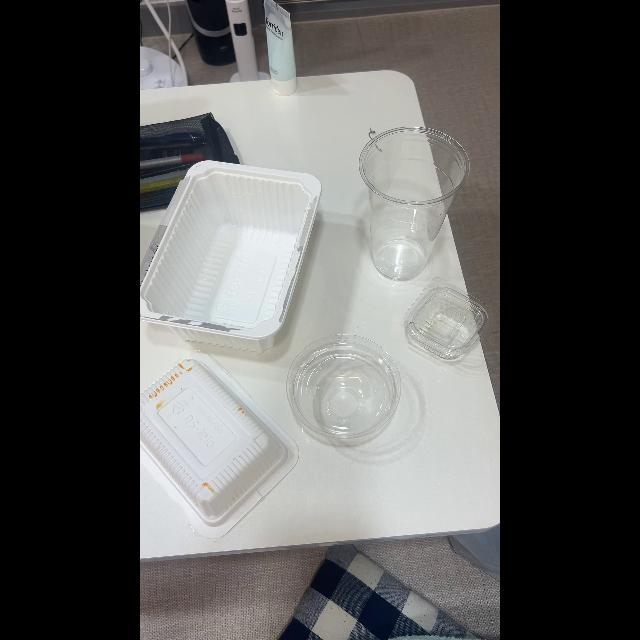clean: (140, 164, 322, 342), (360, 128, 468, 280), (288, 337, 402, 439), (406, 281, 490, 357)
dirty: (140, 359, 284, 519)
